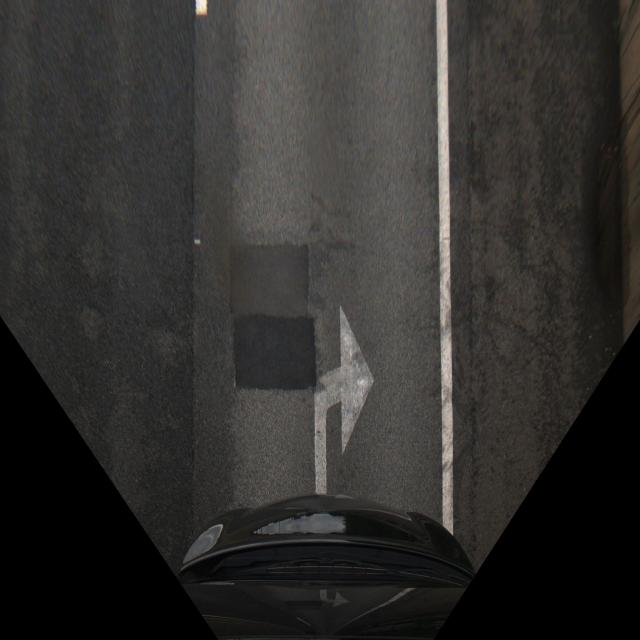right: (184, 224, 464, 492)
